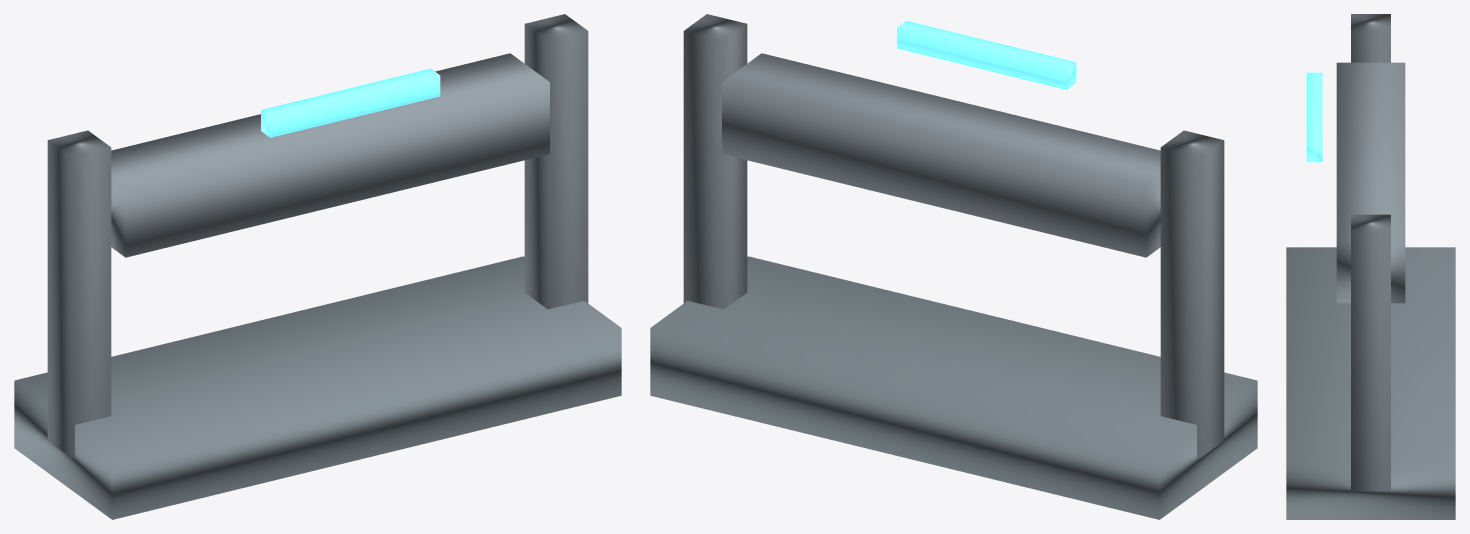
File: ice-mine-coolant-manifold-lod2.glb
3 views of the same model, side by side, from view 1: azimuth 30°, elevation 25°; view 2: azimuth 150°, elevation 25°; view 3: azimuth 270°, elevation 25° (orthographic). The views are drawn at different scales.
Visible parts, largest first — view 1: ice-mine-coolant-manifold-skid, ice-mine-coolant-manifold-spine, ice-mine-coolant-manifold-riser-a, ice-mine-coolant-manifold-riser-b, ice-mine-coolant-manifold-status; view 2: ice-mine-coolant-manifold-skid, ice-mine-coolant-manifold-spine, ice-mine-coolant-manifold-riser-a, ice-mine-coolant-manifold-riser-b, ice-mine-coolant-manifold-status; view 3: ice-mine-coolant-manifold-skid, ice-mine-coolant-manifold-spine, ice-mine-coolant-manifold-riser-b, ice-mine-coolant-manifold-riser-a, ice-mine-coolant-manifold-status.
Boxes of the visible parts, x1,y1,x2,y2 form: ice-mine-coolant-manifold-skid: [14, 256, 621, 519]; ice-mine-coolant-manifold-spine: [111, 53, 549, 257]; ice-mine-coolant-manifold-riser-a: [47, 130, 111, 457]; ice-mine-coolant-manifold-riser-b: [524, 14, 588, 309]; ice-mine-coolant-manifold-status: [261, 68, 440, 137]; ice-mine-coolant-manifold-skid: [650, 256, 1257, 519]; ice-mine-coolant-manifold-spine: [722, 53, 1160, 257]; ice-mine-coolant-manifold-riser-a: [1160, 130, 1224, 457]; ice-mine-coolant-manifold-riser-b: [683, 14, 747, 309]; ice-mine-coolant-manifold-status: [897, 20, 1076, 89]; ice-mine-coolant-manifold-skid: [1286, 247, 1455, 519]; ice-mine-coolant-manifold-spine: [1336, 62, 1405, 303]; ice-mine-coolant-manifold-riser-b: [1351, 214, 1390, 490]; ice-mine-coolant-manifold-riser-a: [1351, 14, 1390, 62]; ice-mine-coolant-manifold-status: [1306, 72, 1322, 162].
Size of the model in its own units: 2.56 by 1.67 by 0.84.
